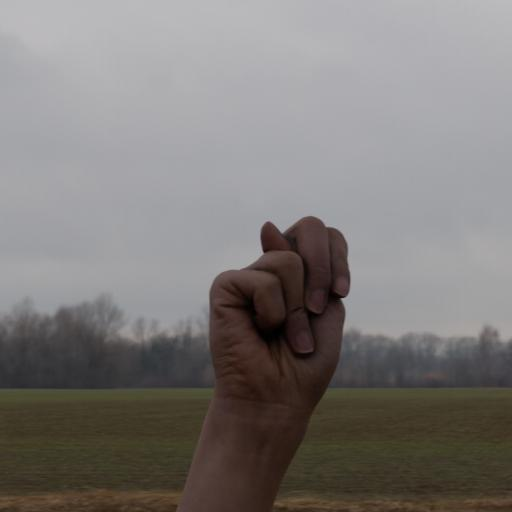N: (197, 202, 372, 410)
